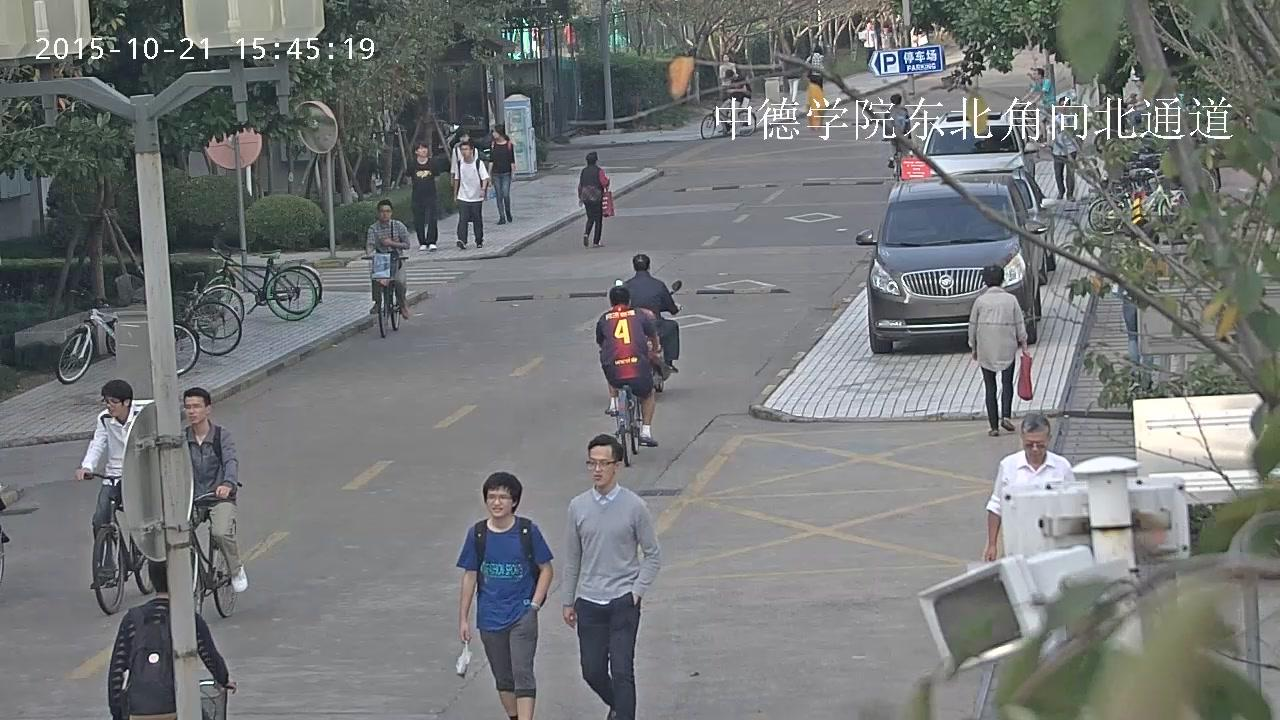face: (589, 445, 612, 485), (1023, 430, 1046, 461), (486, 489, 510, 516), (185, 396, 206, 423), (105, 396, 124, 417), (380, 206, 392, 219), (459, 145, 469, 158), (492, 127, 499, 138), (418, 148, 427, 156), (461, 134, 468, 142), (723, 54, 729, 62), (1060, 101, 1069, 106), (1034, 72, 1040, 79), (866, 22, 872, 29)
